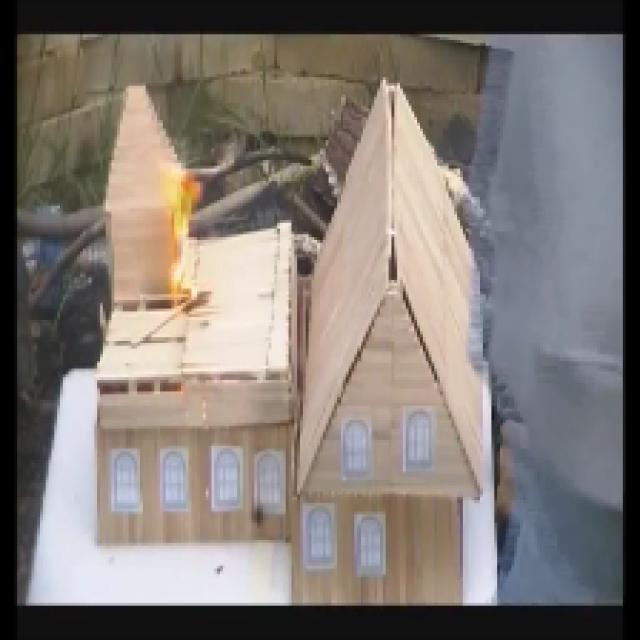fire: (161, 187, 207, 299)
